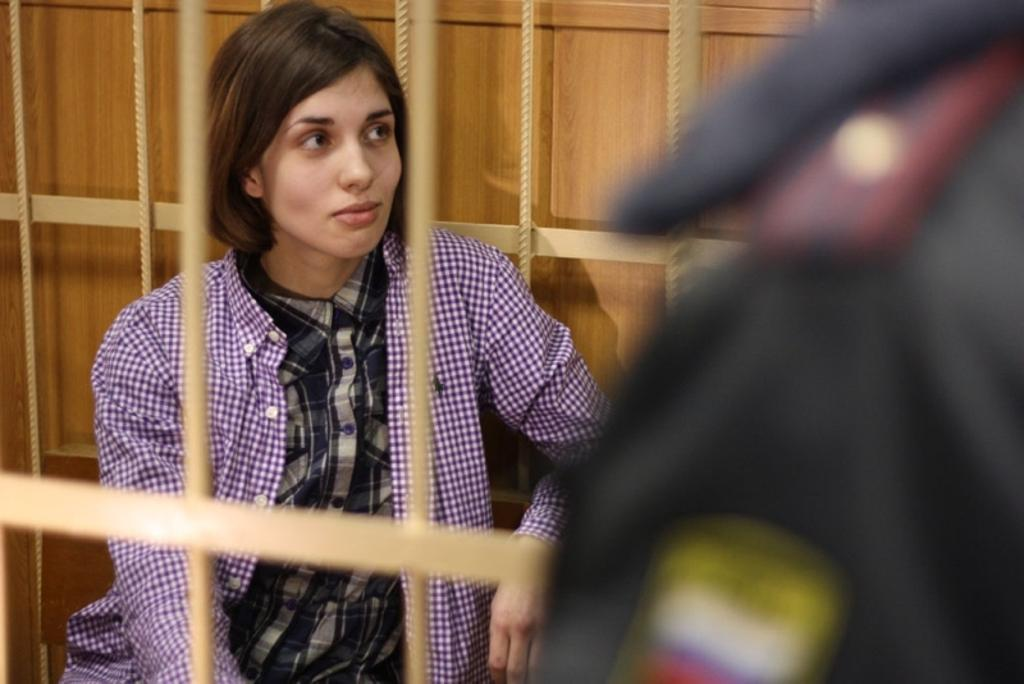face: (261, 53, 403, 261)
